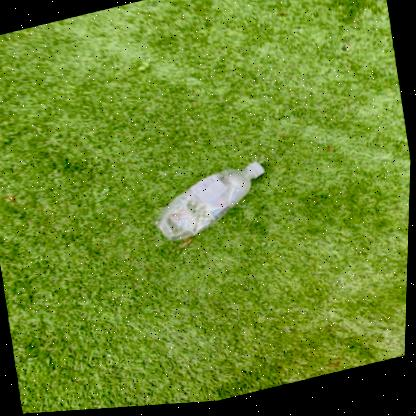Plastic: (155, 165, 264, 242)
